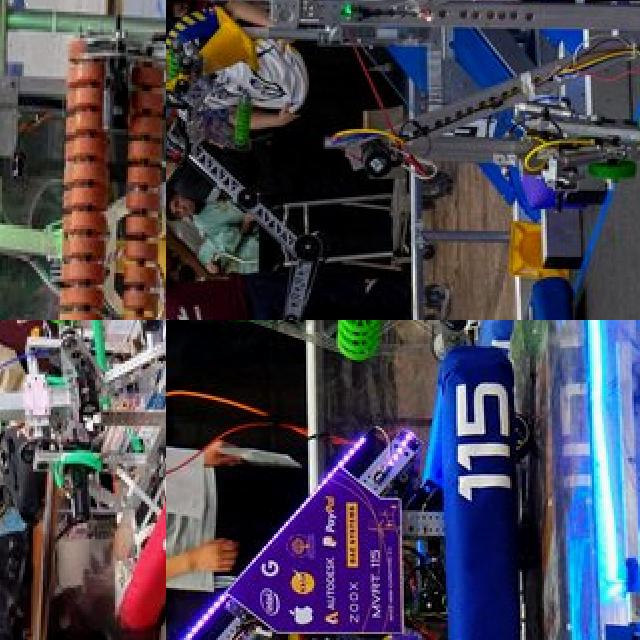FRC-Robots: (166, 16, 565, 320), (166, 343, 554, 640), (0, 0, 166, 320), (0, 320, 166, 635)
